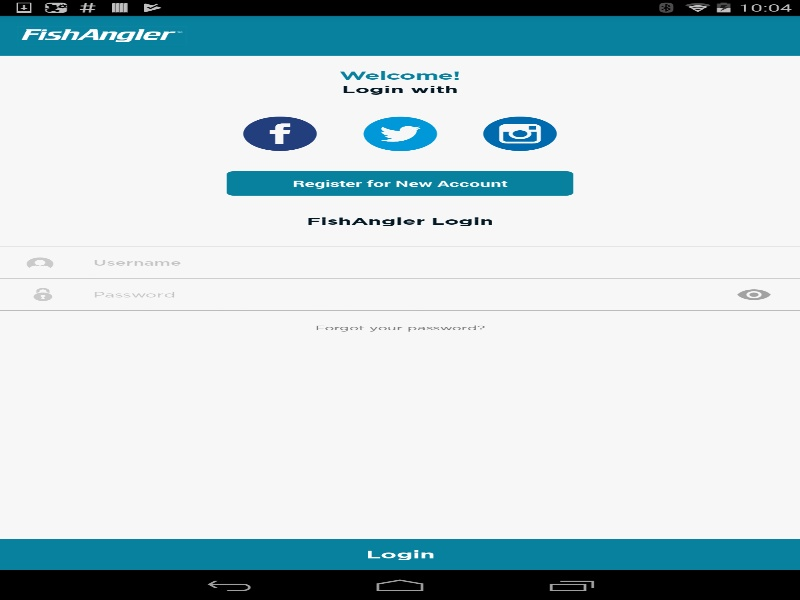Button: (240, 115, 320, 152), (360, 115, 440, 152), (480, 115, 560, 152), (730, 286, 777, 303)
Input: (80, 247, 800, 278), (86, 279, 800, 310)
